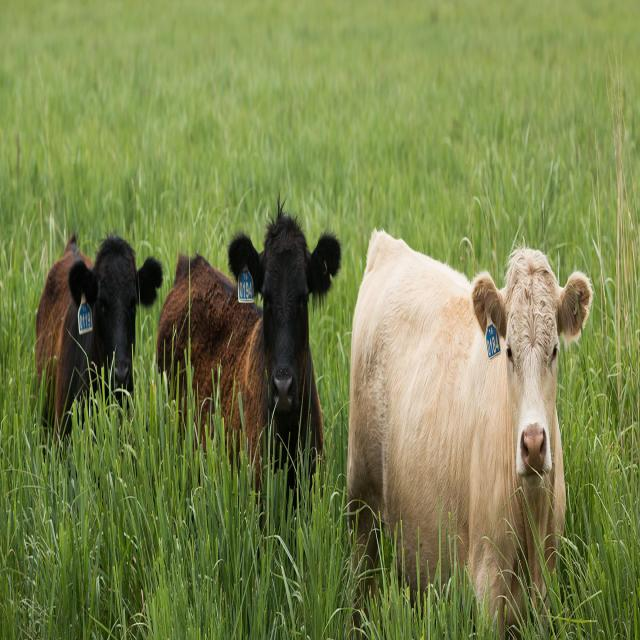cow: (240, 218, 320, 488), (493, 274, 569, 542), (77, 208, 154, 462)
